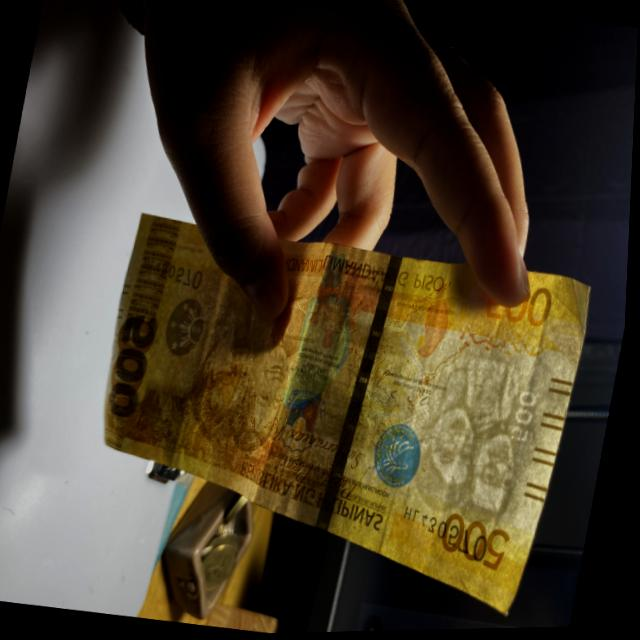500_big_parrot: (270, 257, 369, 425)
500_parrot_watermark: (409, 281, 462, 371)
value_watermark: (510, 390, 543, 451)
watermark: (414, 356, 556, 525)
